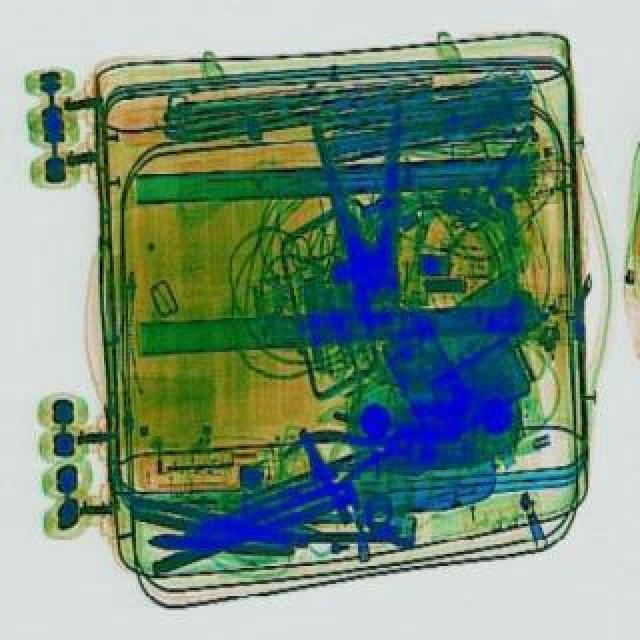wrench: (312, 104, 432, 328), (282, 414, 434, 510), (132, 498, 300, 566)
